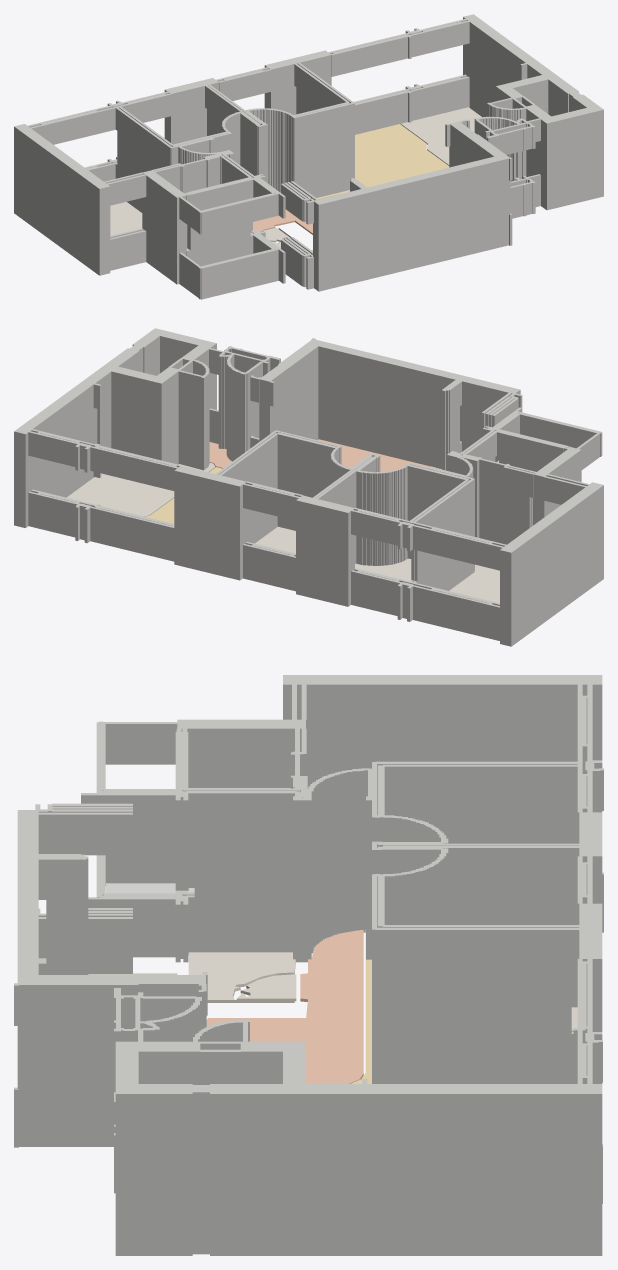
The picture shows the model from 3 angles, top to bottom: view 1: azimuth 30°, elevation 25°; view 2: azimuth 150°, elevation 25°; view 3: azimuth 270°, elevation 25°; orthographic projection. The views are drawn at different scales.
Parts seen in each view (by area): view 1: walls, room:living:1, room:other:2, room:other:7, room:kitchen:4; view 2: walls, room:other:2, room:kitchen:4, room:other:7, room:other:9, room:other:8, room:living:1; view 3: walls, room:kitchen:4, room:other:11, room:other:12, room:living:1, room:ledge:6.
Boxes of the visible parts, left/top/right/bottom form: walls: left=14, top=14, right=603, bottom=299; room:living:1: left=316, top=124, right=449, bottom=199; room:other:2: left=400, top=107, right=481, bottom=165; room:other:7: left=110, top=202, right=142, bottom=235; room:kitchen:4: left=253, top=209, right=312, bottom=234; walls: left=14, top=328, right=603, bottom=646; room:other:2: left=67, top=463, right=215, bottom=516; room:kitchen:4: left=209, top=439, right=441, bottom=471; room:other:7: left=449, top=564, right=499, bottom=603; room:other:9: left=255, top=526, right=295, bottom=553; room:other:8: left=355, top=558, right=411, bottom=581; room:living:1: left=145, top=467, right=222, bottom=523; walls: left=14, top=675, right=603, bottom=1255; room:kitchen:4: left=206, top=930, right=363, bottom=1083; room:other:11: left=188, top=952, right=295, bottom=1002; room:other:12: left=236, top=974, right=296, bottom=1001; room:living:1: left=351, top=930, right=371, bottom=1083; room:ledge:6: left=106, top=883, right=175, bottom=893.
Size of the model in its own units: 15.51 by 2.8 by 9.24.
